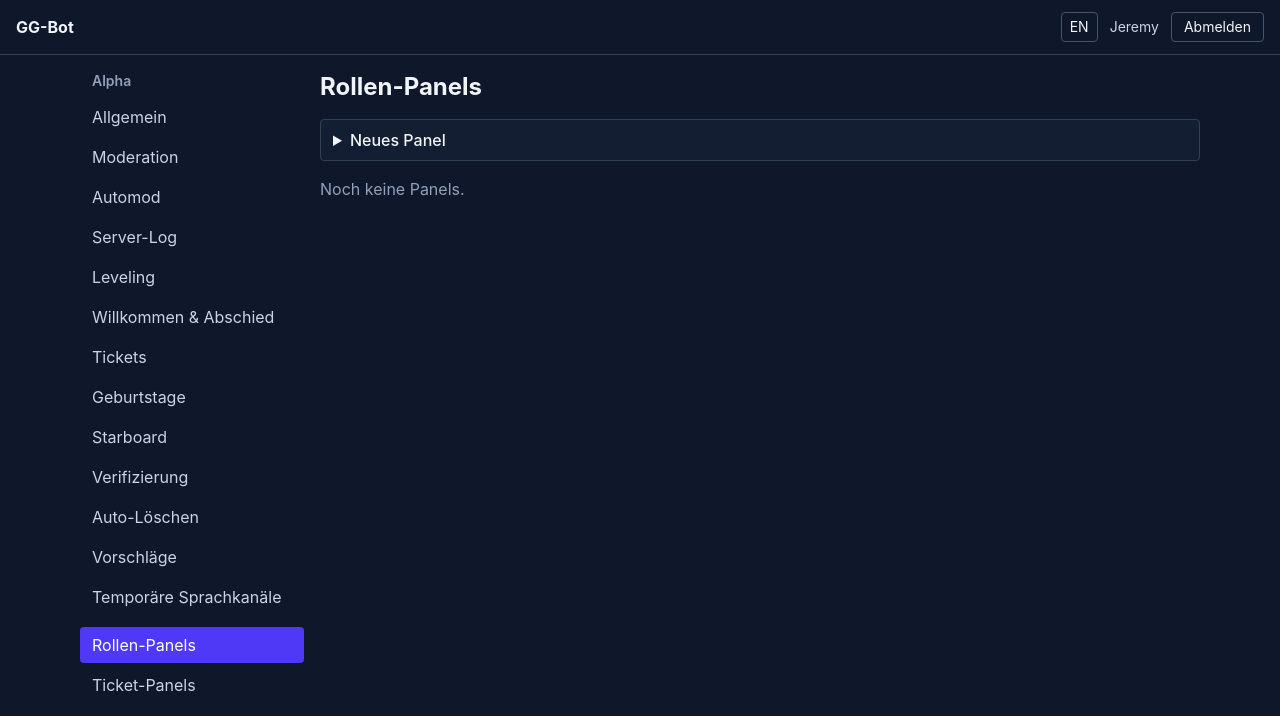
Rollen-Panels › legt ein Panel an und zeigt es
Check: the text "Noch keine Panels." is shown, box left=320, top=179, right=465, bottom=199
Click the heading "Neues Panel" at (398, 140), box left=350, top=130, right=446, bottom=150
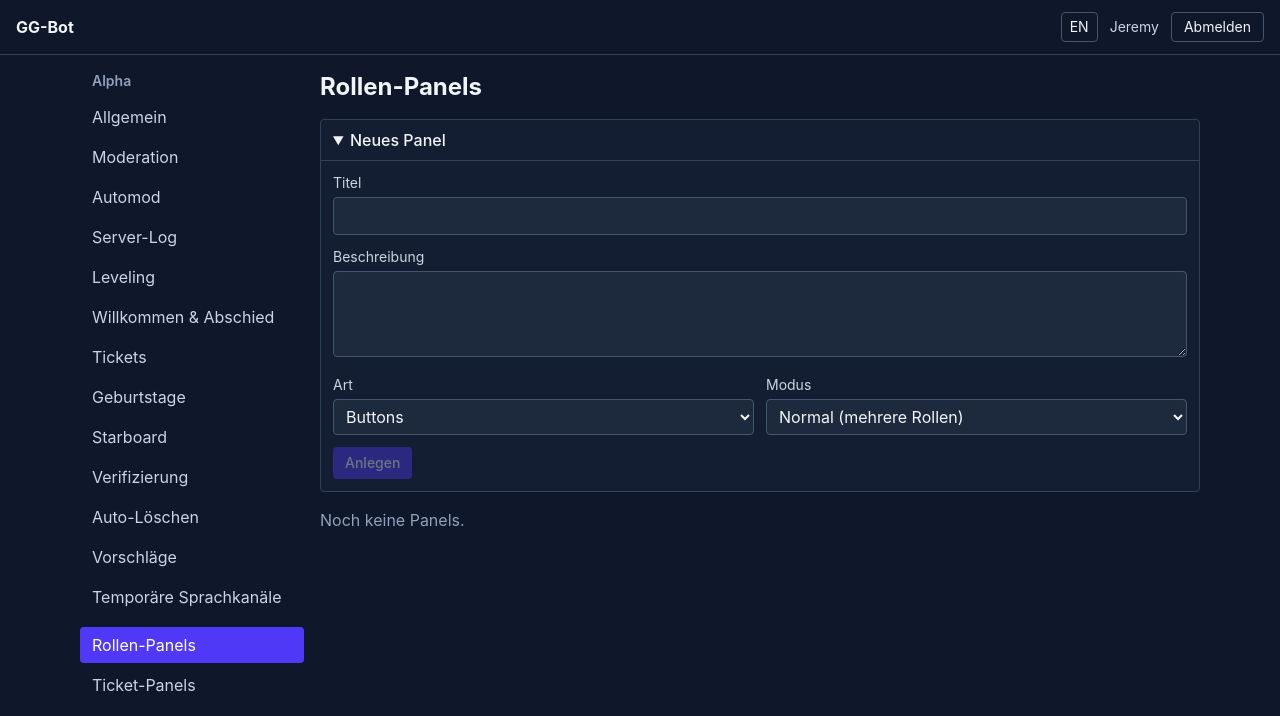
Type "Spiele" into the field labelled "Titel" at (760, 216), box left=333, top=197, right=1187, bottom=235
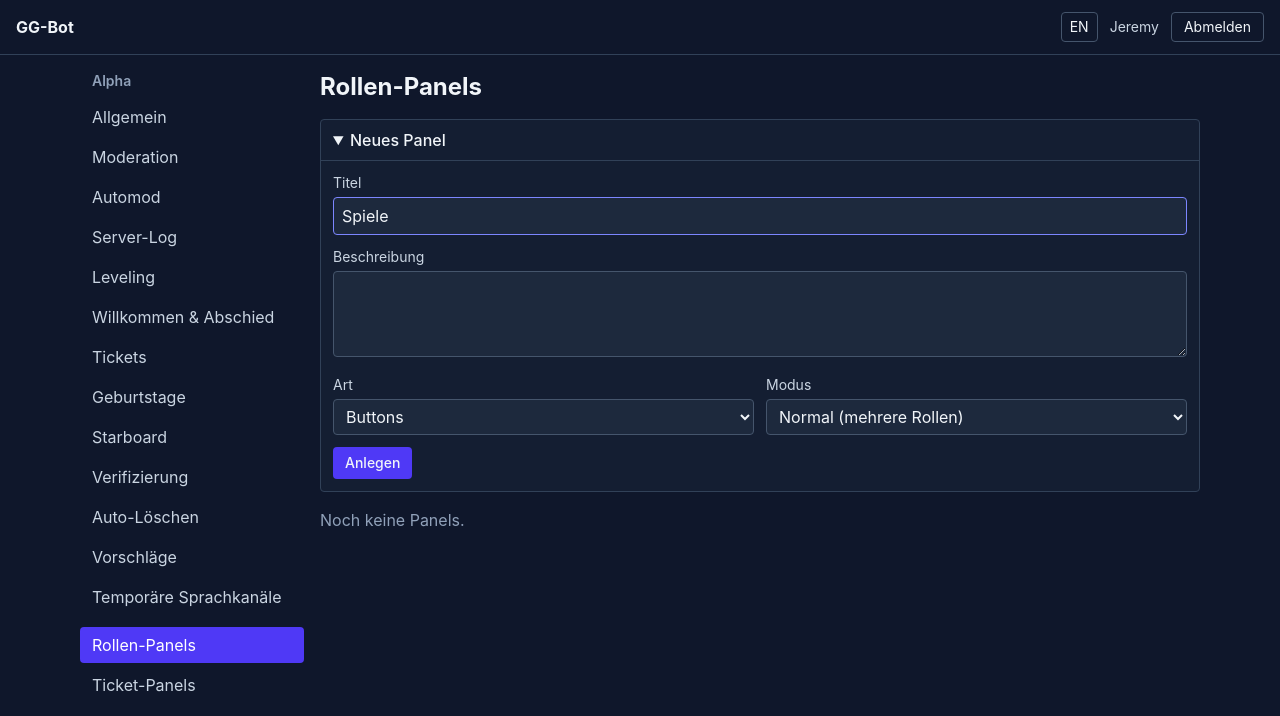
Select "Auswahlmenü" in the dropdown labelled "Art" at (544, 417), box left=333, top=399, right=754, bottom=435
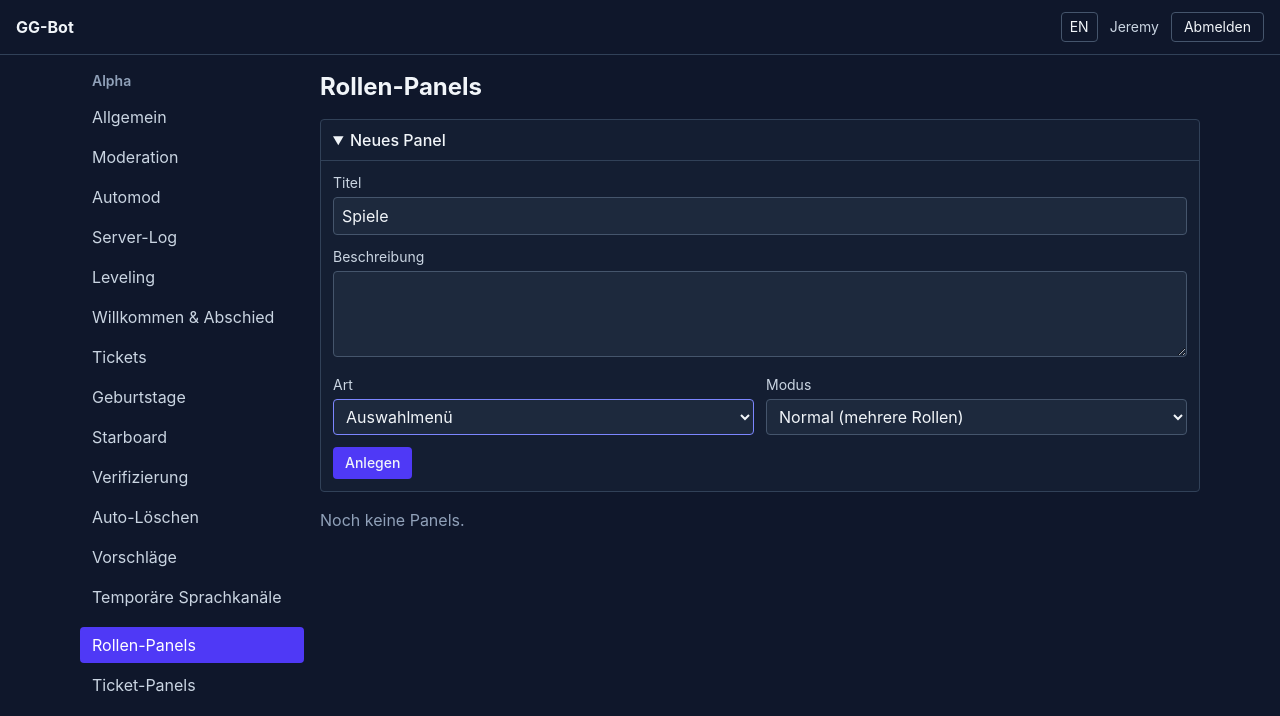
Click the button "Anlegen" at (373, 463), box left=333, top=447, right=412, bottom=479
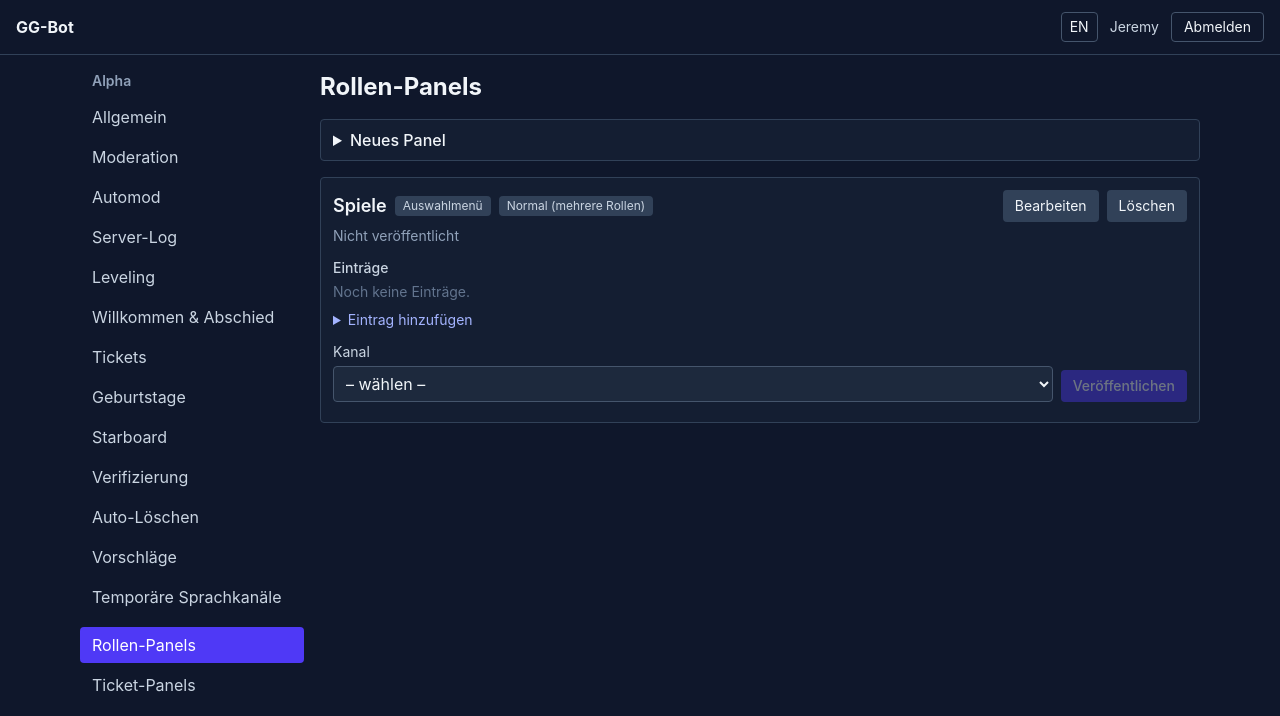
Check: the element "Spiele" is shown, box left=320, top=177, right=1200, bottom=423
